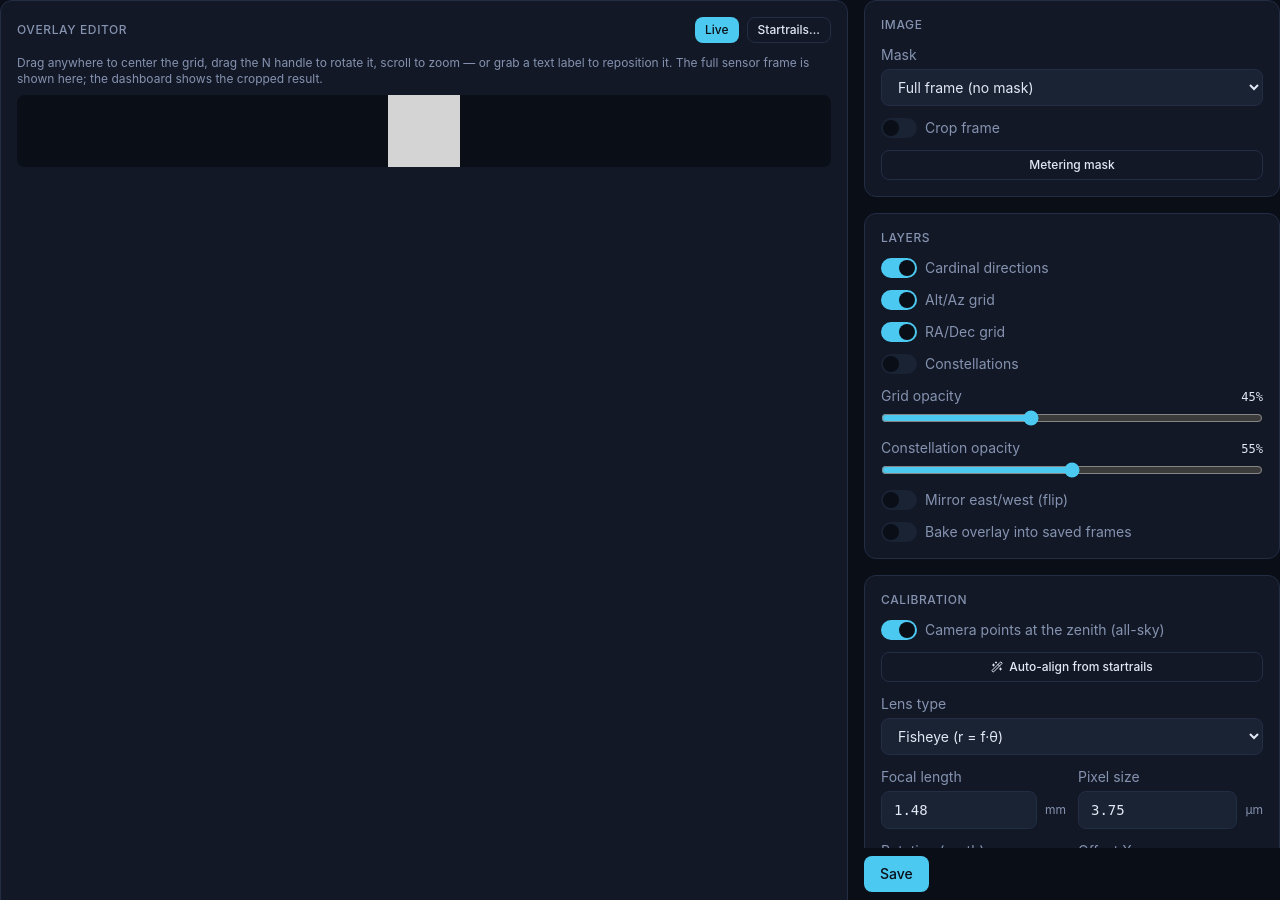
OverlayEditorPage startrails background › shows an empty hint when no night has a startrails yet
Click the button "Startrails…" at [789, 30], box [746,17,831,43]
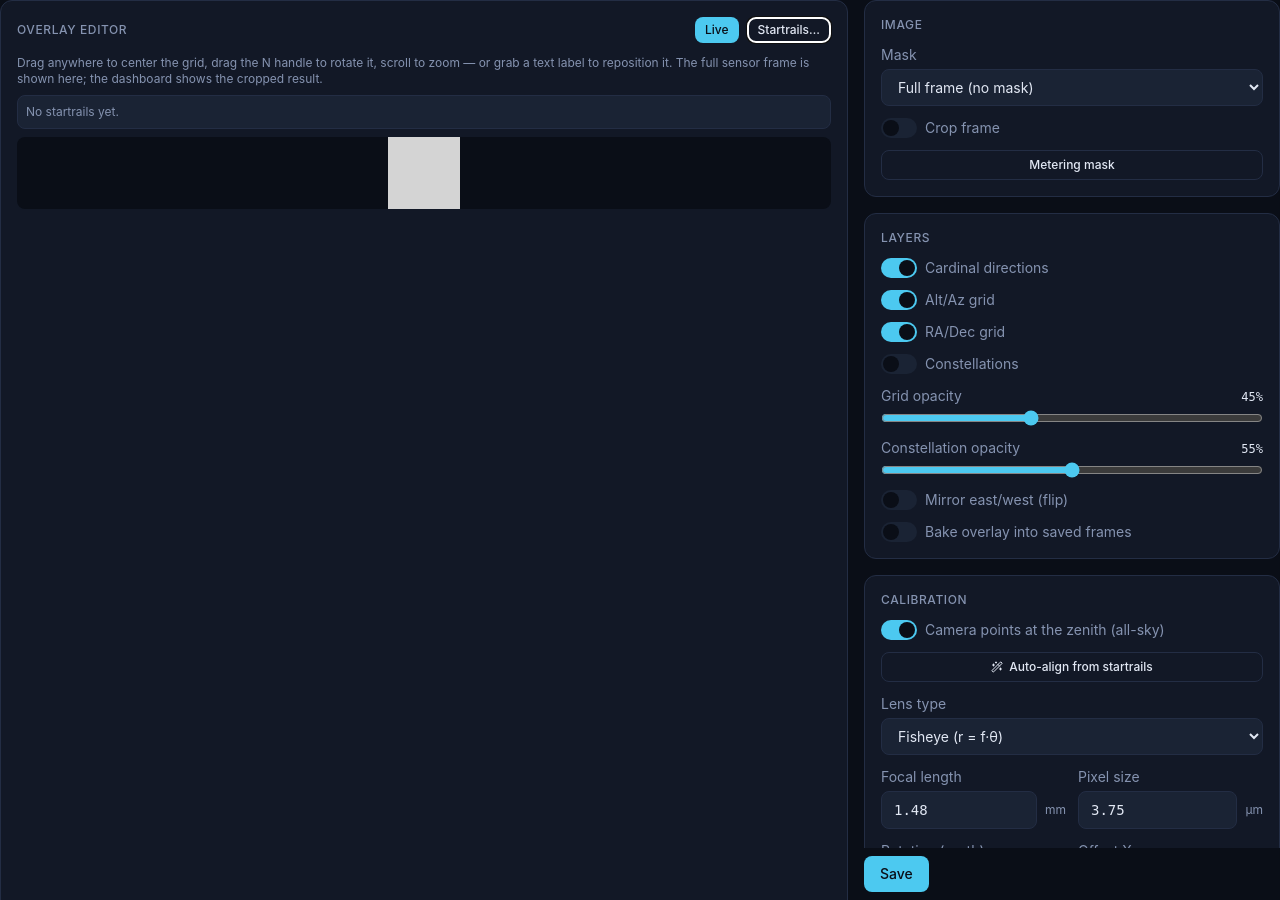
Check: the text "No startrails yet." is shown, box [26,104,119,120]
